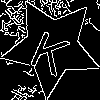K: (27, 21, 76, 77)
